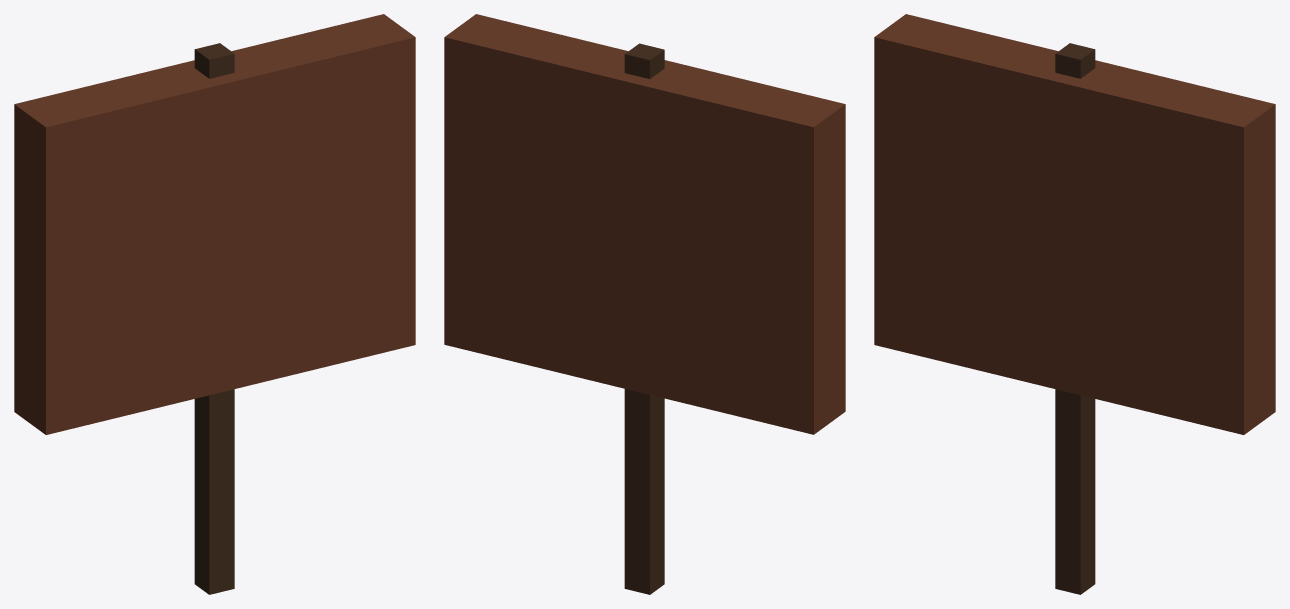
File: Sign.fbx
The picture shows the model from 3 angles, left to right: view 1: azimuth 30°, elevation 25°; view 2: azimuth 150°, elevation 25°; view 3: azimuth 330°, elevation 25°; orthographic projection.
Parts seen in each view (by area): view 1: Board, Post; view 2: Board, Post; view 3: Board, Post.
Part boxes in pixels (x1,y1,x2,y2): Board: [14, 14, 415, 434]; Post: [194, 43, 234, 594]; Board: [444, 14, 845, 434]; Post: [624, 43, 664, 594]; Board: [874, 14, 1275, 434]; Post: [1055, 43, 1095, 594].
Size of the model in its own units: 59.07 by 81.7 by 8.78.
